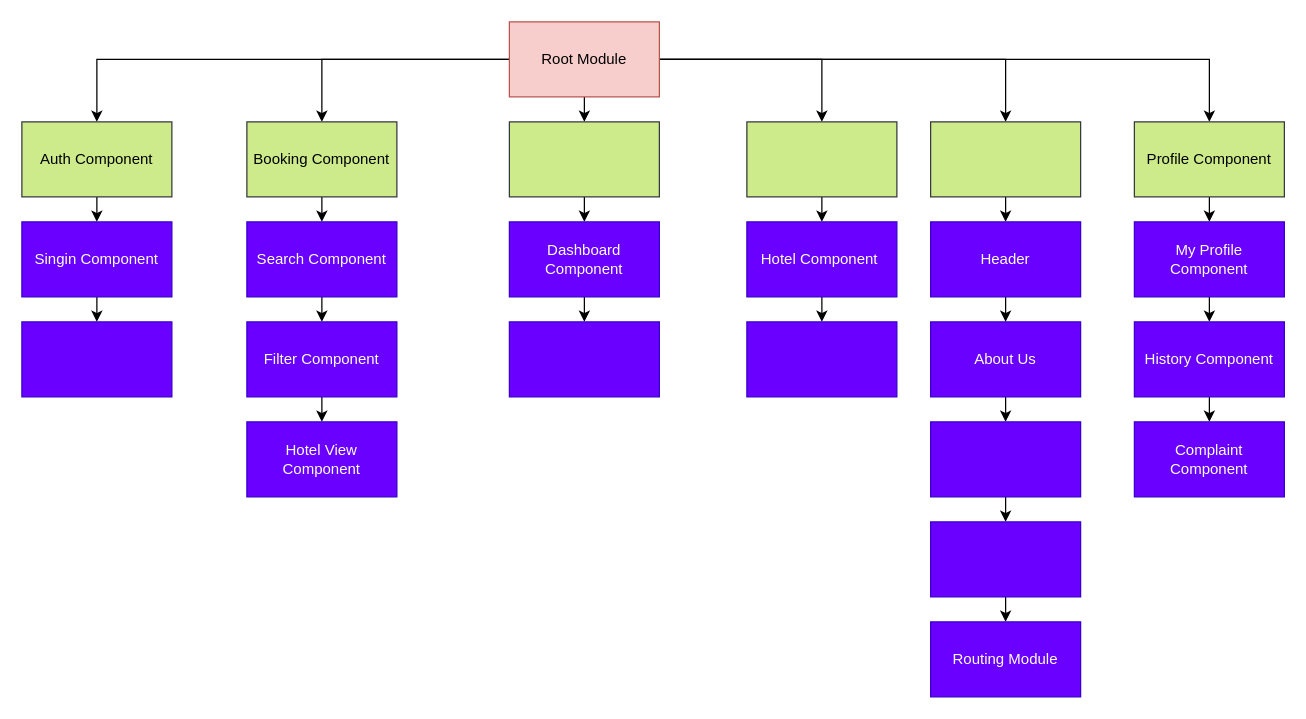
Image size: 1306x719. Some labels were removed from this diagram. Here are the shapes that lost their labels. From the top down, the centre of each, then its label:
(583,159): Admin Component
(821,159): Partner Component
(1005,159): Core Module
(96,359): Sign Up Component
(583,359): Block Component
(821,359): Coupon Component
(1005,459): Help
(1005,559): Footer
